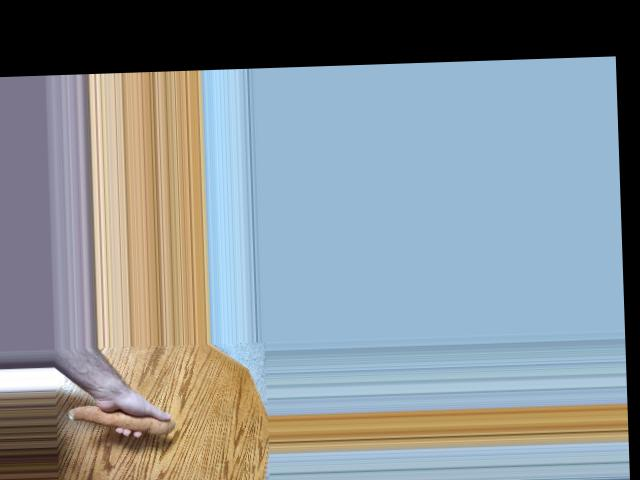sweet_potato: (63, 398, 174, 439)
